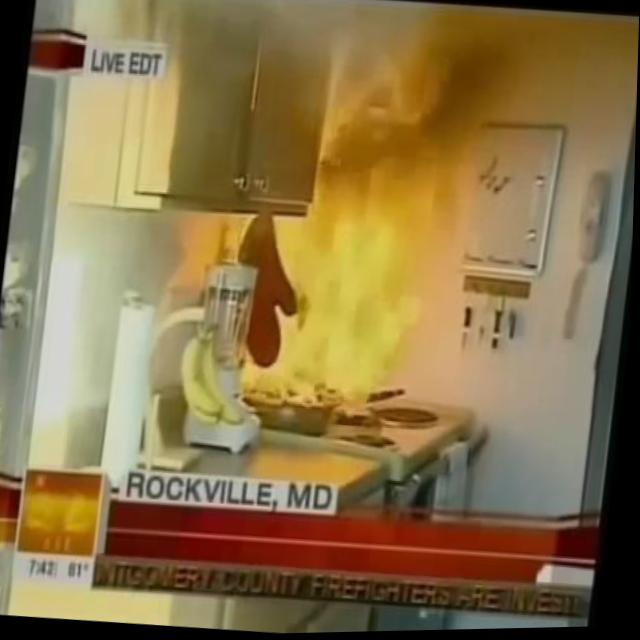fire: (224, 158, 443, 412)
